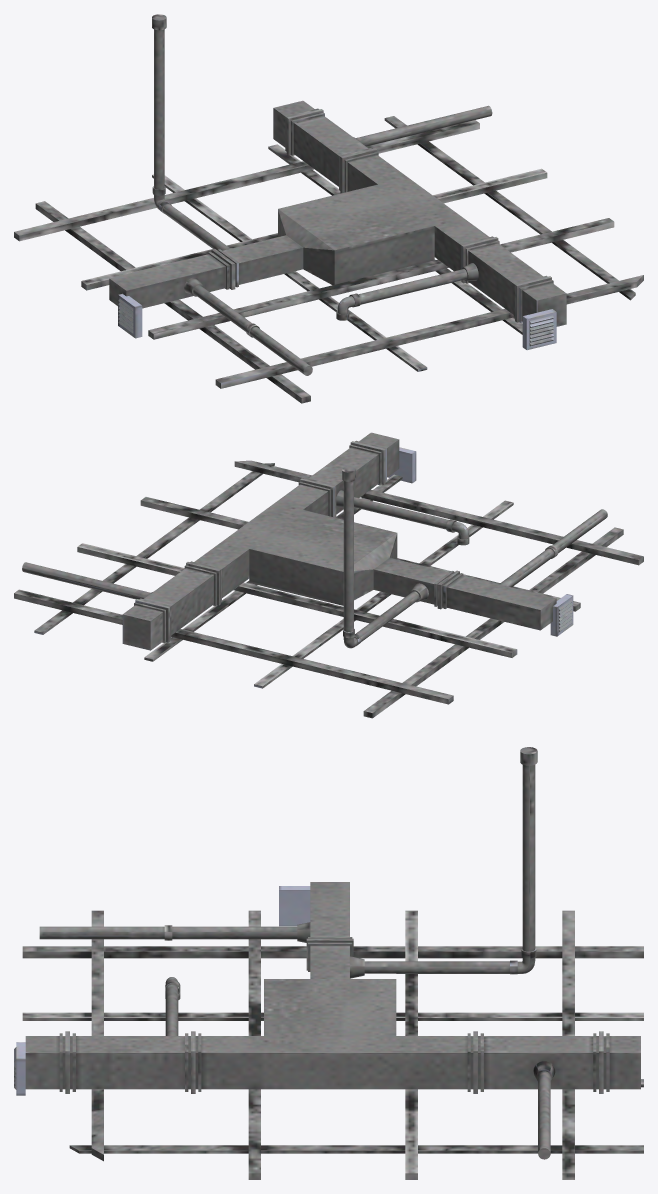
File: vent.fbx
The picture shows the model from 3 angles, top to bottom: view 1: azimuth 30°, elevation 25°; view 2: azimuth 150°, elevation 25°; view 3: azimuth 270°, elevation 25°; orthographic projection. The views are drawn at different scales.
Visible parts, largest first — view 1: potolok; view 2: potolok; view 3: potolok.
Part boxes in pixels (bbox=[...]): potolok: bbox=[14, 14, 643, 403]; potolok: bbox=[14, 432, 643, 718]; potolok: bbox=[14, 747, 643, 1179].
Size of the model in its own units: 2017 by 866 by 2007.
